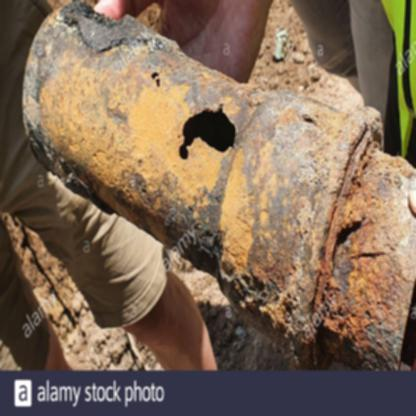burst: (158, 97, 253, 162)
